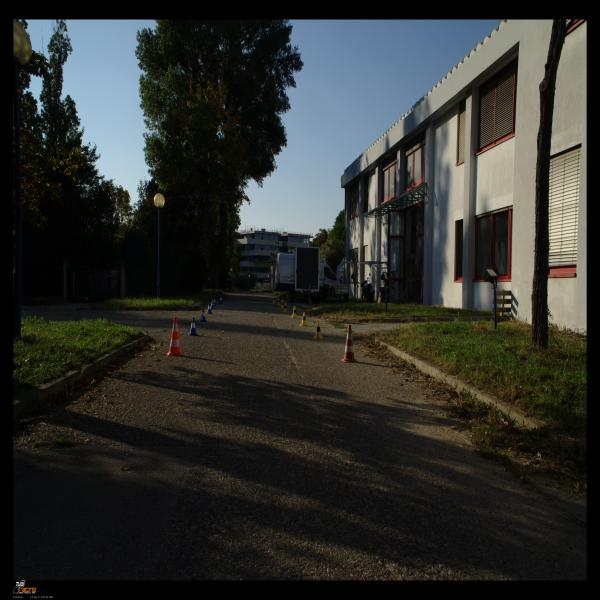blue_cone: (188, 318, 198, 336), (199, 308, 206, 322), (206, 302, 212, 314), (211, 299, 215, 309), (218, 295, 222, 304), (214, 297, 216, 306)
large_orange_cone: (340, 325, 358, 362), (167, 317, 182, 356)
yellow_cone: (314, 321, 323, 340), (300, 312, 308, 326), (291, 306, 298, 318), (282, 302, 288, 312), (280, 300, 284, 309), (272, 296, 276, 304), (276, 298, 280, 306)
